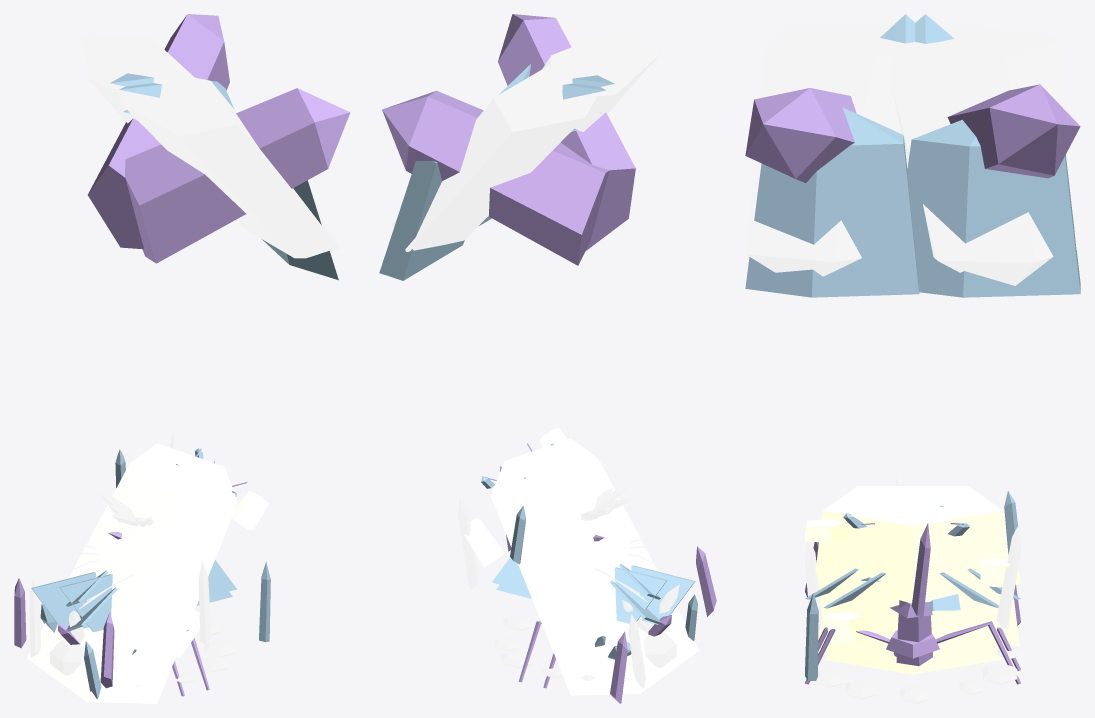
Rendered from maitre-cristal-v5-leger.glb.
3 views of the same model, side by side, from view 1: azimuth 30°, elevation 25°; view 2: azimuth 150°, elevation 25°; view 3: azimuth 270°, elevation 25° (orthographic). The views are drawn at different scales.
Visible parts, largest first — view 1: maitre_cristal_coeur_lueur, maitre_cristal_brasFalse_lueur, maitre_cristal_brasFalse.001, maitre_cristal_brasTrue_lueur, maitre_cristal_lumieres, maitre_cristal_brasTrue.001, maitre_cristal_corps.001, maitre_cristal_eclats_lueur, maitre_cristal_eclats.001, maitre_cristal_coeurs_lueur; view 2: maitre_cristal_coeur_lueur, maitre_cristal_brasTrue_lueur, maitre_cristal_brasTrue.001, maitre_cristal_brasFalse_lueur, maitre_cristal_brasFalse.001, maitre_cristal_lumieres, maitre_cristal_corps.001, maitre_cristal_eclats_lueur, maitre_cristal_eclats.001, maitre_cristal_coeurs_lueur; view 3: maitre_cristal_brasFalse_lueur, maitre_cristal_brasTrue_lueur, maitre_cristal_coeur_lueur, maitre_cristal_brasTrue.001, maitre_cristal_brasFalse.001, maitre_cristal_lumieres, maitre_cristal_corps.001, maitre_cristal_eclats_lueur, maitre_cristal_coeurs_lueur, maitre_cristal_eclats.001.
Part boxes in pixels (left/top/right/bottom): maitre_cristal_coeur_lueur: left=27, top=443, right=237, bottom=703; maitre_cristal_brasFalse_lueur: left=119, top=83, right=350, bottom=280; maitre_cristal_brasFalse.001: left=118, top=70, right=339, bottom=258; maitre_cristal_brasTrue_lueur: left=88, top=14, right=233, bottom=249; maitre_cristal_lumieres: left=31, top=448, right=247, bottom=696; maitre_cristal_brasTrue.001: left=82, top=36, right=194, bottom=123; maitre_cristal_corps.001: left=37, top=491, right=238, bottom=686; maitre_cristal_eclats_lueur: left=14, top=449, right=270, bottom=698; maitre_cristal_eclats.001: left=29, top=431, right=211, bottom=657; maitre_cristal_coeurs_lueur: left=48, top=490, right=268, bottom=676; maitre_cristal_coeur_lueur: left=491, top=438, right=699, bottom=695; maitre_cristal_brasTrue_lueur: left=379, top=83, right=609, bottom=280; maitre_cristal_brasTrue.001: left=392, top=65, right=597, bottom=251; maitre_cristal_brasFalse_lueur: left=479, top=14, right=635, bottom=250; maitre_cristal_brasFalse.001: left=542, top=27, right=661, bottom=132; maitre_cristal_lumieres: left=481, top=443, right=695, bottom=688; maitre_cristal_corps.001: left=494, top=485, right=689, bottom=680; maitre_cristal_eclats_lueur: left=500, top=466, right=716, bottom=703; maitre_cristal_eclats.001: left=458, top=485, right=645, bottom=688; maitre_cristal_coeurs_lueur: left=464, top=428, right=666, bottom=676; maitre_cristal_brasFalse_lueur: left=745, top=14, right=919, bottom=297; maitre_cristal_brasTrue_lueur: left=907, top=14, right=1080, bottom=297; maitre_cristal_coeur_lueur: left=805, top=486, right=1020, bottom=674; maitre_cristal_brasTrue.001: left=889, top=26, right=1080, bottom=296; maitre_cristal_brasFalse.001: left=745, top=27, right=938, bottom=276; maitre_cristal_lumieres: left=805, top=505, right=1020, bottom=684; maitre_cristal_corps.001: left=805, top=477, right=1020, bottom=703; maitre_cristal_eclats_lueur: left=805, top=491, right=1020, bottom=680; maitre_cristal_coeurs_lueur: left=805, top=519, right=1020, bottom=643; maitre_cristal_eclats.001: left=805, top=523, right=1020, bottom=630.
Bounding box in the file's own units: 2.7 × 6.6 × 3.1.
